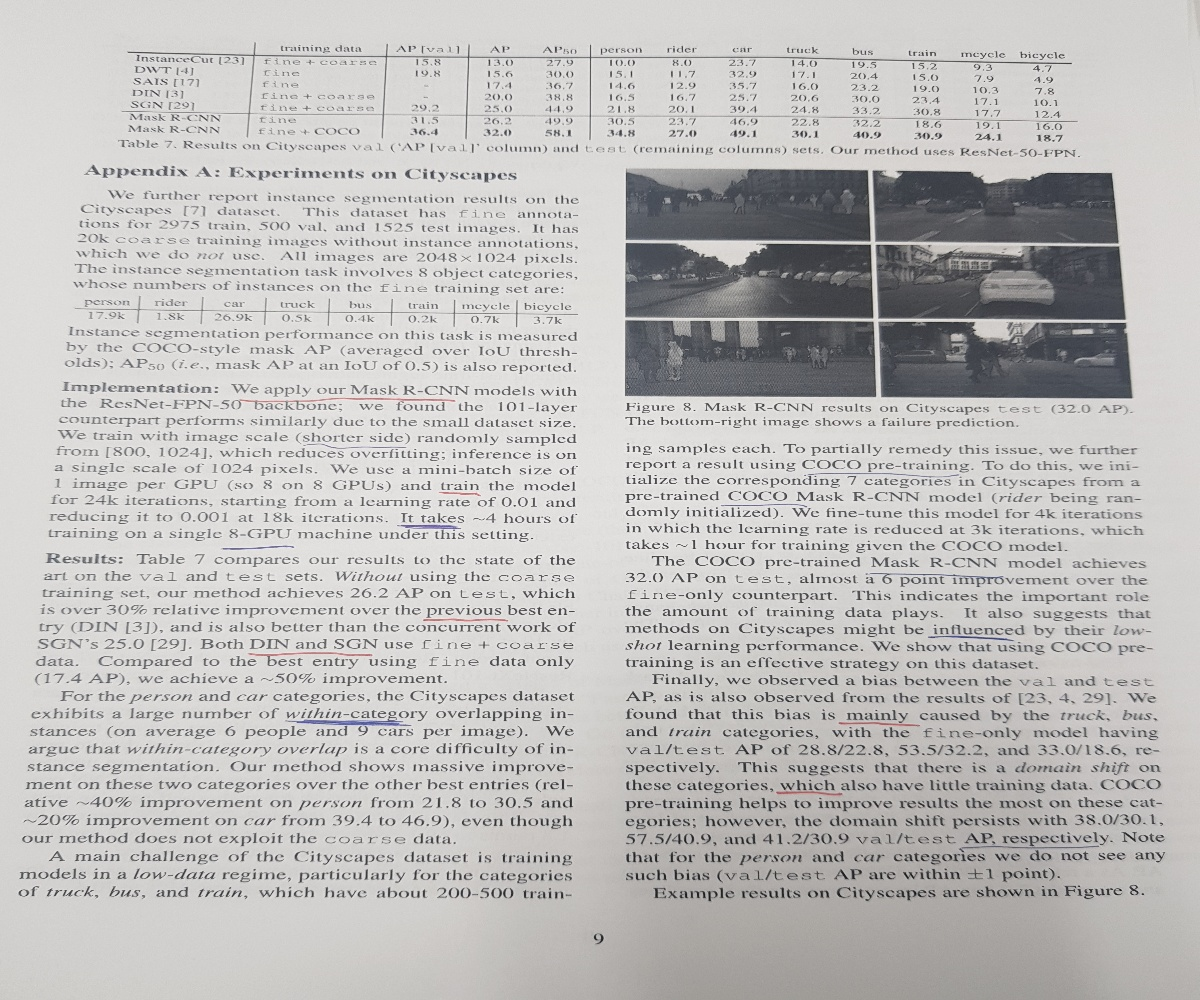underline: (237, 395, 458, 406), (285, 715, 413, 732), (801, 468, 965, 479), (244, 648, 373, 660), (866, 566, 1004, 577), (956, 842, 1103, 851), (924, 630, 1016, 644), (301, 439, 409, 450), (423, 613, 515, 625), (221, 542, 300, 555), (837, 717, 920, 729), (718, 500, 808, 509), (394, 521, 463, 532), (773, 789, 846, 798), (437, 487, 485, 499)
